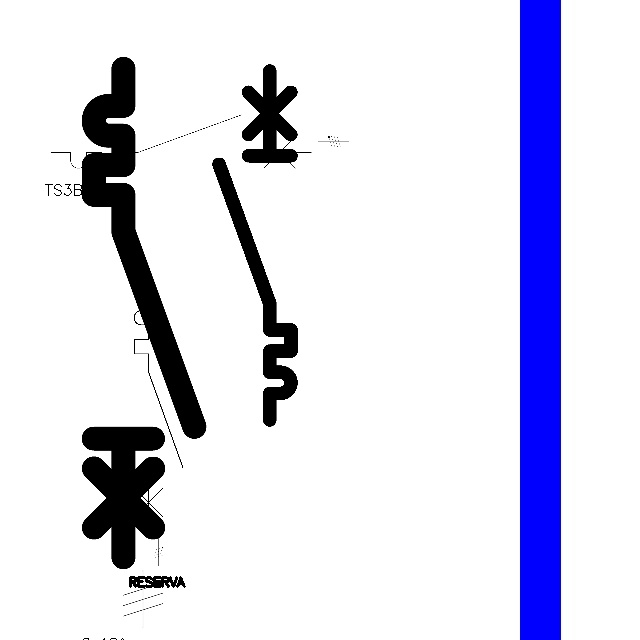interruptor_termomagnetico: (81, 56, 206, 569), (210, 62, 300, 429), (44, 108, 317, 175), (128, 286, 189, 537)
